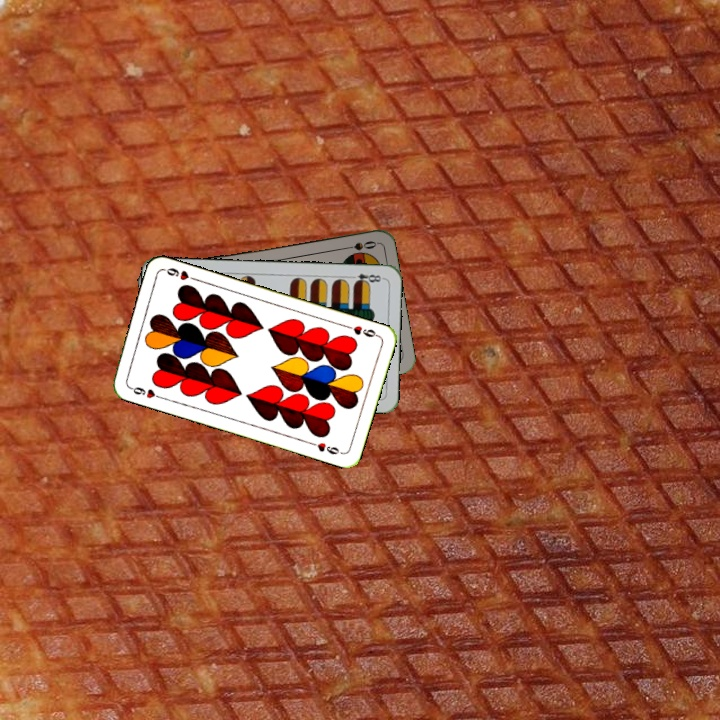E8: (345, 269, 386, 287)
H9: (341, 321, 381, 340), (125, 383, 165, 401)
SO: (338, 237, 379, 253)
